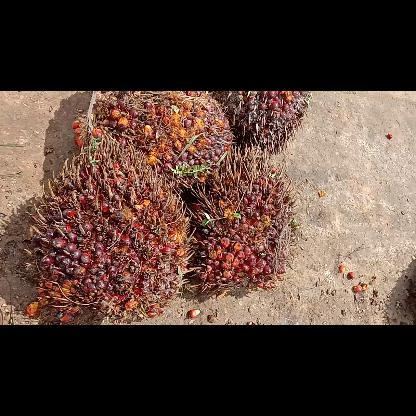TBS masak: (25, 135, 193, 317), (72, 91, 232, 187), (190, 147, 292, 289), (212, 90, 310, 152)
